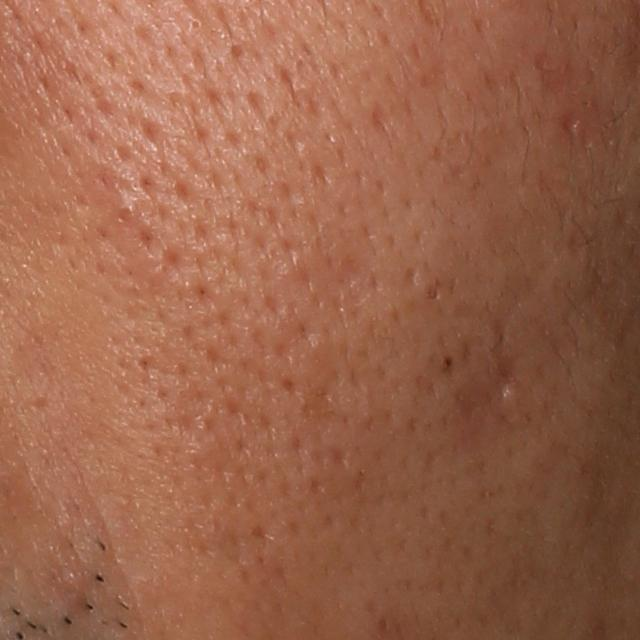atrophic_scar: (310, 248, 380, 321), (310, 374, 374, 423), (488, 340, 519, 408), (554, 109, 591, 146), (369, 97, 391, 146)
comedo: (187, 15, 207, 34)
